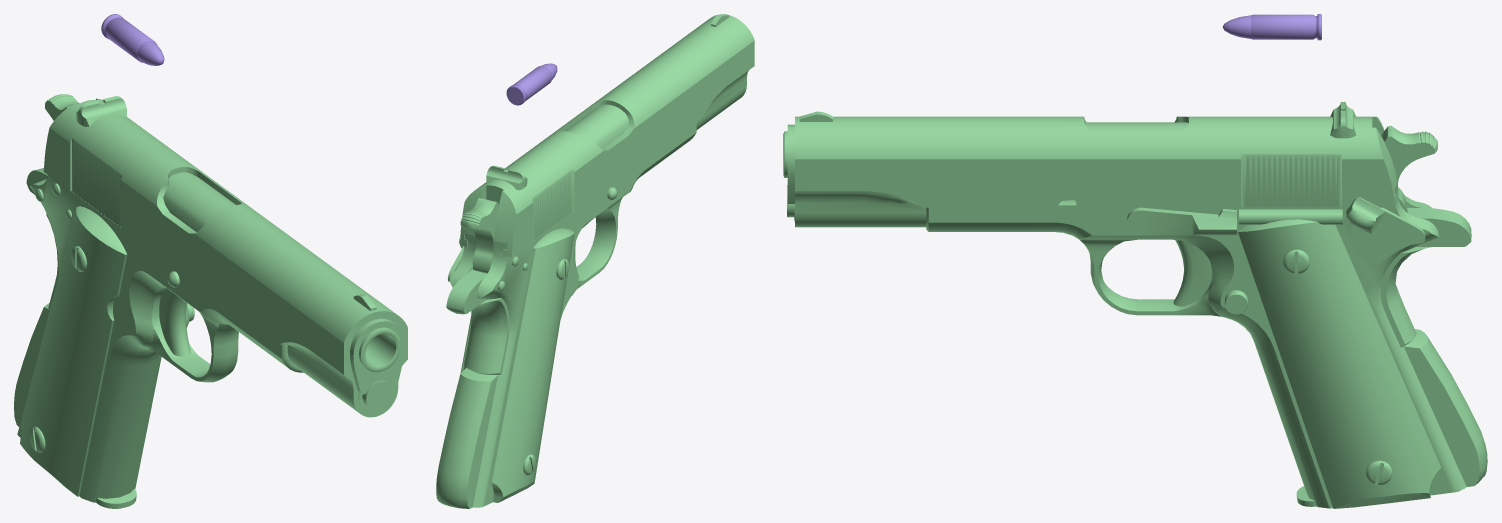
Rendered from WPN_C1911.FBX.
3 renders of one model, left to right at view 1: azimuth 30°, elevation 25°; view 2: azimuth 150°, elevation 25°; view 3: azimuth 270°, elevation 25°, orthographic. The views are drawn at different scales.
Parts seen in each view (by area): view 1: WPN_C1911, WPN_C1911_slide, WPN_C1911_barrel, cal_45, WPN_C1911_trigger, WPN_C1911_hammer, WPN_C1911_magazine; view 2: WPN_C1911, WPN_C1911_slide, WPN_C1911_hammer, WPN_C1911_barrel, cal_45; view 3: WPN_C1911, WPN_C1911_slide, cal_45, WPN_C1911_hammer, WPN_C1911_trigger, WPN_C1911_barrel.
Part boxes in pixels (x1,y1,x2,y2): WPN_C1911: (14,168,303,502); WPN_C1911_slide: (43,96,407,417); WPN_C1911_barrel: (163,172,400,372); cal_45: (101,14,164,65); WPN_C1911_trigger: (159,288,190,356); WPN_C1911_hammer: (45,94,79,120); WPN_C1911_magazine: (95,489,136,508); WPN_C1911: (436,122,696,508); WPN_C1911_slide: (460,14,754,257); WPN_C1911_hammer: (460,198,498,273); WPN_C1911_barrel: (565,104,628,149); cal_45: (506,63,557,105); WPN_C1911: (926,182,1487,508); WPN_C1911_slide: (787,101,1397,227); cal_45: (1222,14,1321,40); WPN_C1911_hammer: (1381,125,1437,211); WPN_C1911_trigger: (1173,240,1211,306); WPN_C1911_barrel: (783,122,1188,177).
Bounding box in the file's own units: 3.46 × 16.39 × 21.58.
